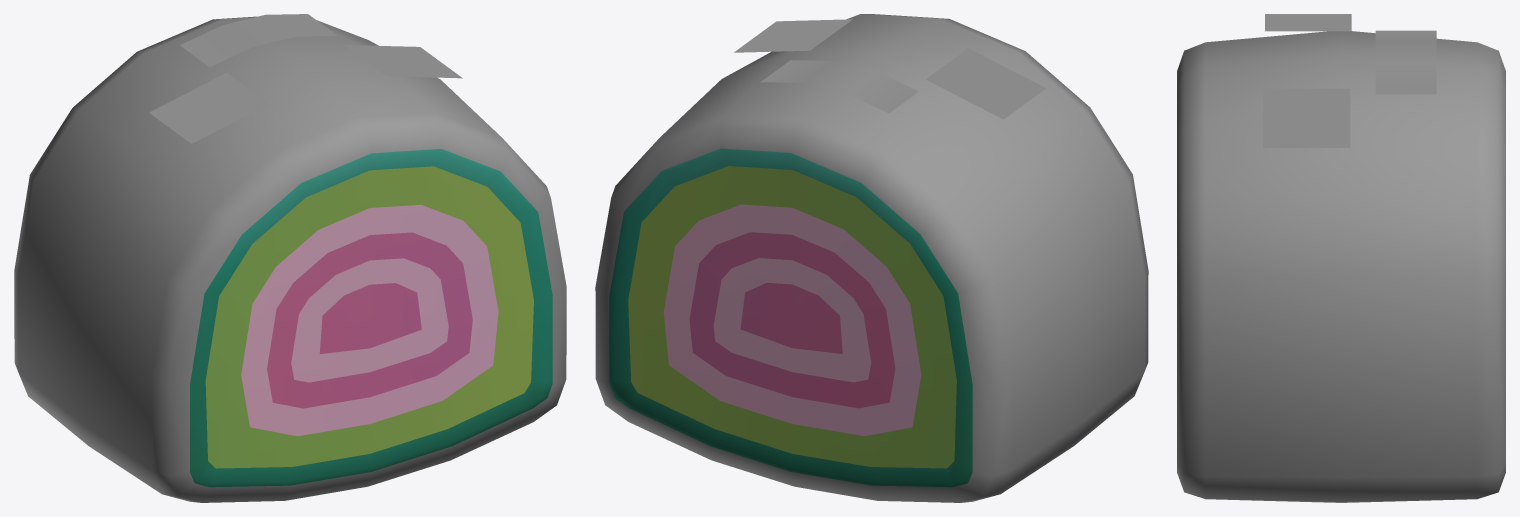
The model's file is rahat_lokum_green.fbx.
3 views of the same model, side by side, from view 1: azimuth 30°, elevation 25°; view 2: azimuth 150°, elevation 25°; view 3: azimuth 270°, elevation 25° (orthographic).
Parts seen in each view (by area): view 1: coconut_flakes, rahat_lokum_emerald, smile; view 2: coconut_flakes, rahat_lokum_emerald, smile; view 3: coconut_flakes, smile.
Boxes of the visible parts, x1,y1,x2,y2 form: coconut_flakes: (14, 16, 566, 502); rahat_lokum_emerald: (190, 149, 552, 487); smile: (149, 14, 462, 143); coconut_flakes: (595, 14, 1148, 502); rahat_lokum_emerald: (609, 148, 972, 487); smile: (734, 19, 1045, 119); coconut_flakes: (1177, 31, 1505, 502); smile: (1263, 14, 1436, 147).
Size of the model in its own units: 27.06 by 23.23 by 17.81.
